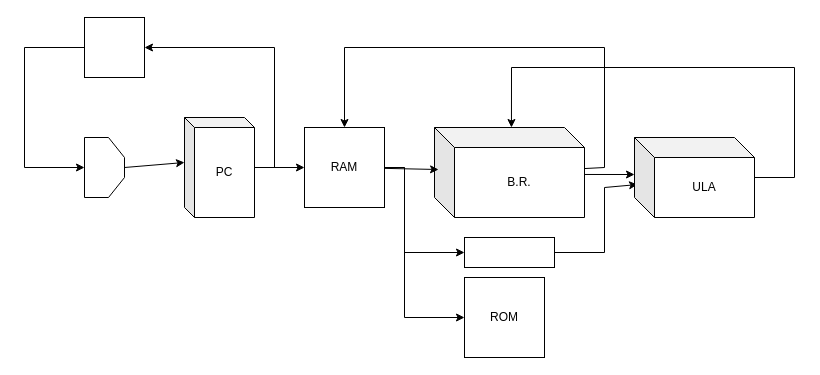
This 820x375 diagram has some shape labels left out. Here are the shapes that lost their labels. From the top down, the centre of each, then its label:
At pixel 114 47: "ADD".
At pixel 104 167: "MUX".
At pixel 509 252: "SIGN EXT".
